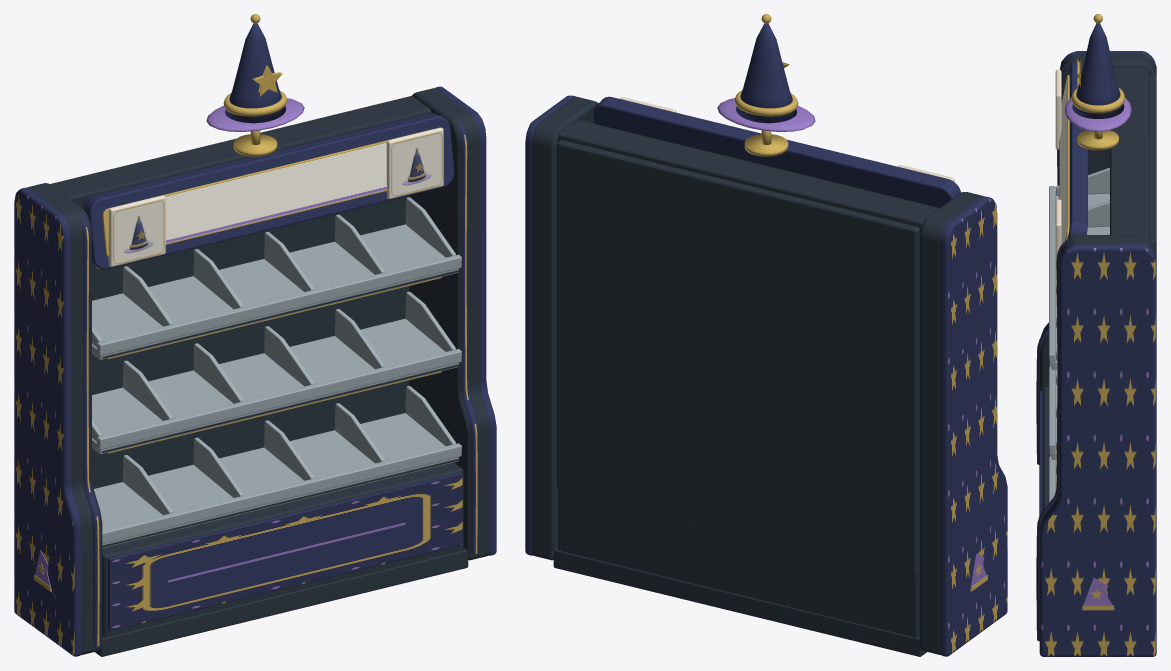
The model's file is TH_WIZARD.fbx.
The picture shows the model from 3 angles, left to right: view 1: azimuth 30°, elevation 25°; view 2: azimuth 150°, elevation 25°; view 3: azimuth 270°, elevation 25°; orthographic projection. The views are drawn at different scales.
Visible parts, largest first — view 1: BaseFrontInset, Left_PaintedPanel, BackPanel.001, Right_StructuralWall, Tray_01, Tray_02, Tray_03, HeaderFace, HeaderBorder, TopCrossRail, Left_StructuralWall, ClosedSolidBase (+34 smaller); view 2: BackPanel.001, Left_PaintedPanel, ClosedSolidBase, Right_StructuralWall, HeaderBorder, Left_StructuralWall, TopCrossRail, LowerPlinth, Right_PaintedPanel, Curving wizard crown, Wizard brim, TopperMount; view 3: Right_PaintedPanel, TopCrossRail, Curving wizard crown, HeaderBorder, Left_StructuralWall, HeaderFace, BackPanel.001, RightHousing, FrontLip_01, Right_StructuralWall, Wizard brim, ClosedSolidBase (+15 smaller).
Part boxes in pixels (x1=…): BaseFrontInset: x1=108, y1=472, x2=462, y2=630; Left_PaintedPanel: x1=14, y1=187, x2=81, y2=656; BackPanel.001: x1=92, y1=196, x2=409, y2=488; Right_StructuralWall: x1=409, y1=88, x2=489, y2=560; Tray_01: x1=92, y1=224, x2=458, y2=359; Tray_02: x1=92, y1=318, x2=458, y2=454; Tray_03: x1=94, y1=413, x2=458, y2=548; HeaderFace: x1=102, y1=129, x2=430, y2=256; HeaderBorder: x1=82, y1=113, x2=454, y2=269; TopCrossRail: x1=49, y1=96, x2=431, y2=208; Left_StructuralWall: x1=27, y1=183, x2=102, y2=654; ClosedSolidBase: x1=102, y1=462, x2=463, y2=637; BackPanel.001: x1=557, y1=140, x2=919, y2=576; Left_PaintedPanel: x1=940, y1=196, x2=1007, y2=656; ClosedSolidBase: x1=558, y1=489, x2=919, y2=637; Right_StructuralWall: x1=532, y1=97, x2=598, y2=560; HeaderBorder: x1=593, y1=96, x2=960, y2=207; Left_StructuralWall: x1=919, y1=192, x2=984, y2=654; TopCrossRail: x1=558, y1=120, x2=939, y2=234; LowerPlinth: x1=553, y1=548, x2=926, y2=656; Right_PaintedPanel: x1=525, y1=95, x2=576, y2=555; Curving wizard crown: x1=736, y1=23, x2=797, y2=123; Wizard brim: x1=717, y1=98, x2=815, y2=131; TopperMount: x1=744, y1=134, x2=788, y2=156; Right_PaintedPanel: x1=1039, y1=244, x2=1156, y2=656; TopCrossRail: x1=1110, y1=67, x2=1148, y2=237; Curving wizard crown: x1=1072, y1=23, x2=1124, y2=118; HeaderBorder: x1=1068, y1=62, x2=1087, y2=238; Left_StructuralWall: x1=1040, y1=53, x2=1156, y2=390; HeaderFace: x1=1059, y1=75, x2=1069, y2=244; BackPanel.001: x1=1149, y1=74, x2=1156, y2=250; RightHousing: x1=1036, y1=239, x2=1069, y2=641; FrontLip_01: x1=1049, y1=186, x2=1055, y2=365; Right_StructuralWall: x1=1039, y1=235, x2=1156, y2=532; Wizard brim: x1=1064, y1=97, x2=1131, y2=131; ClosedSolidBase: x1=1042, y1=387, x2=1048, y2=510.
Bounding box in the file's own units: 3.62 × 4.68 × 0.9273.
